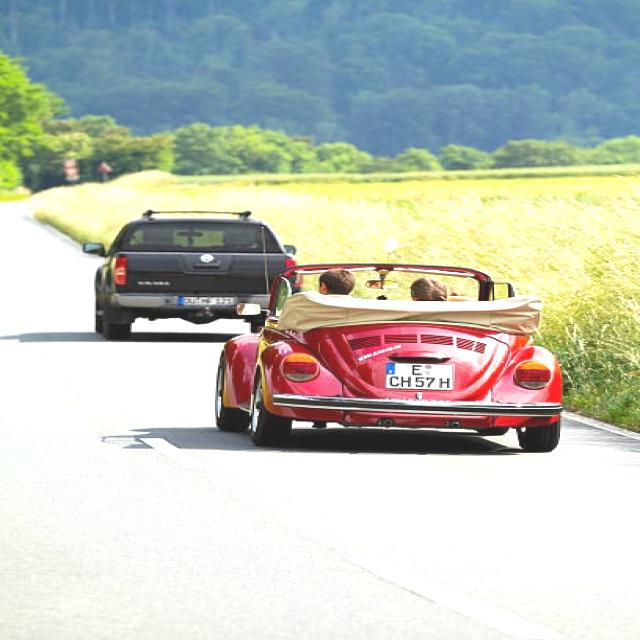car: (213, 277, 567, 447), (98, 218, 305, 331)
